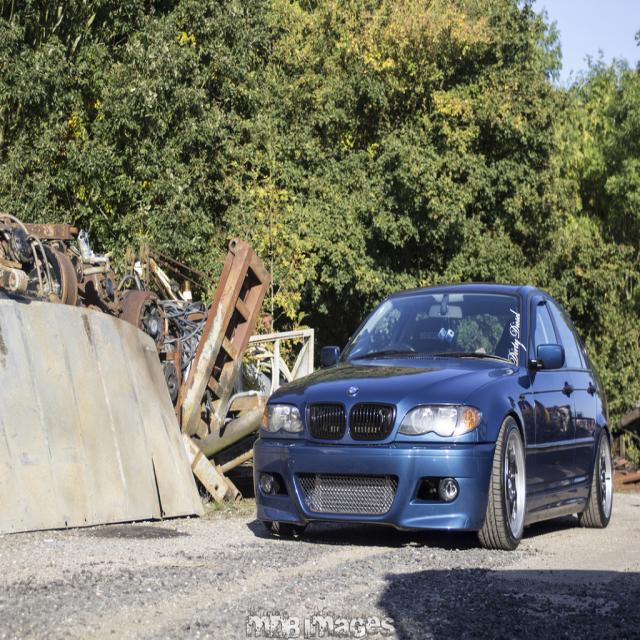car: (251, 288, 618, 549)
